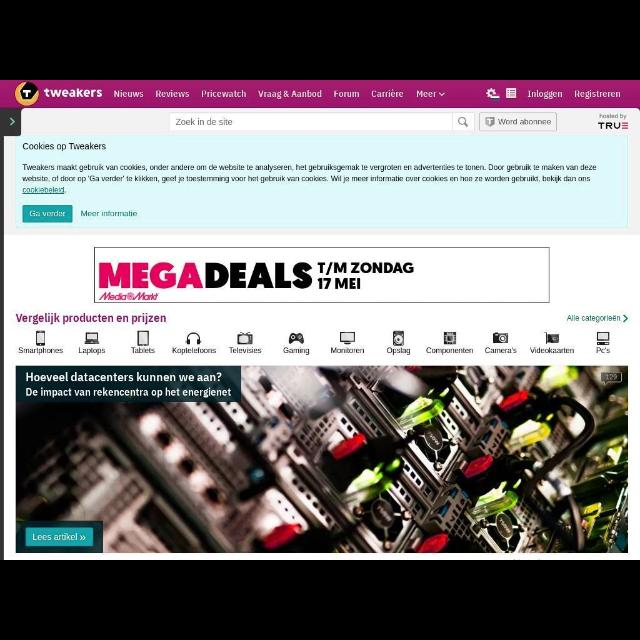backgroundimage: (16, 367, 628, 553)
icon: (497, 118, 551, 126), (236, 330, 254, 346), (184, 332, 202, 346), (136, 330, 150, 346), (340, 331, 356, 345), (596, 330, 610, 346), (83, 332, 101, 344), (492, 332, 510, 344), (443, 331, 457, 345), (288, 332, 304, 344), (393, 330, 405, 346), (543, 332, 559, 344), (36, 329, 46, 347), (457, 115, 469, 128), (505, 87, 517, 99), (8, 116, 15, 126), (79, 534, 87, 542), (622, 314, 628, 324), (438, 92, 446, 96)
iframe: (94, 246, 548, 304)
image: (14, 82, 41, 106), (598, 113, 628, 131), (485, 88, 501, 100), (485, 116, 495, 128)
input: (168, 114, 476, 130)
link: (22, 186, 66, 194)
multitab: (18, 330, 612, 356), (112, 90, 446, 100)
spinner: (416, 90, 446, 98)
text: (21, 163, 596, 194), (25, 371, 233, 397), (15, 313, 167, 325), (22, 142, 106, 152), (42, 88, 104, 99), (257, 89, 323, 99), (566, 314, 620, 324), (574, 90, 622, 100), (175, 118, 233, 126), (201, 89, 247, 99), (18, 346, 64, 356), (32, 532, 78, 542), (81, 210, 137, 218), (171, 346, 215, 356), (426, 348, 474, 357), (526, 90, 564, 100), (154, 89, 190, 99), (330, 346, 364, 356), (371, 90, 403, 100), (485, 346, 517, 356), (114, 89, 144, 99), (29, 210, 66, 218), (282, 346, 310, 356), (528, 348, 574, 354), (78, 346, 105, 356), (131, 346, 155, 356), (332, 90, 360, 98), (386, 348, 410, 357), (228, 348, 262, 354), (416, 90, 436, 98), (595, 347, 611, 355)
textbutton: (479, 114, 557, 130), (26, 529, 94, 547), (23, 205, 73, 223)
